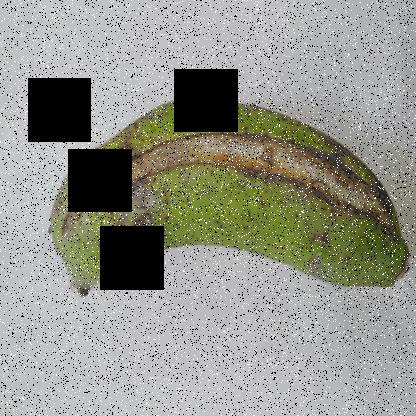rotten: (51, 116, 410, 254)
